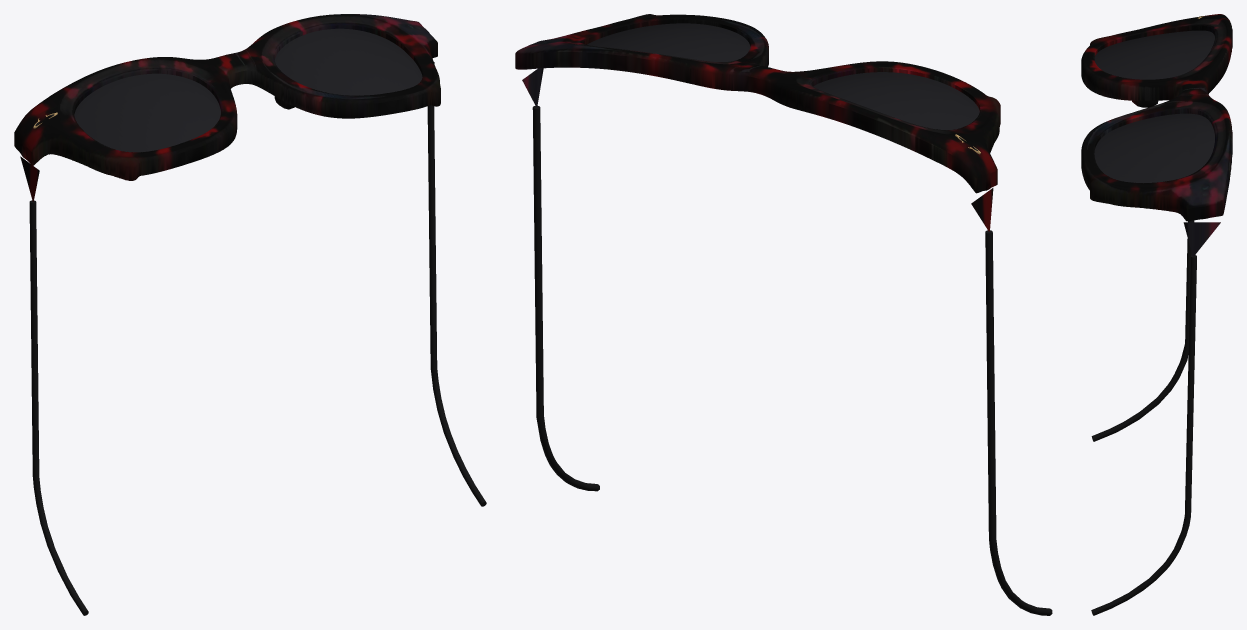
The picture shows the model from 3 angles, left to right: view 1: azimuth 30°, elevation 25°; view 2: azimuth 150°, elevation 25°; view 3: azimuth 270°, elevation 25°; orthographic projection. The views are drawn at different scales.
Parts seen in each view (by area): view 1: F02 front, F02 lens 0, F02 lens 1, F02 temple 0.001, F02 temple 1.001; view 2: F02 front, F02 lens 0, F02 lens 1, F02 temple 0.001, F02 temple 1.001; view 3: F02 front, F02 lens 1, F02 lens 0, F02 temple 1.001, F02 temple 0.001, F02 end 1.
Boxes of the visible parts, x1,y1,x2,y2 form: F02 front: (14, 14, 440, 180); F02 lens 0: (74, 73, 220, 152); F02 lens 1: (274, 28, 422, 95); F02 temple 0.001: (29, 200, 88, 615); F02 temple 1.001: (427, 105, 486, 506); F02 front: (515, 14, 1000, 193); F02 lens 0: (813, 72, 979, 129); F02 lens 1: (587, 23, 750, 61); F02 temple 0.001: (985, 230, 1052, 615); F02 temple 1.001: (532, 106, 599, 491); F02 front: (1081, 14, 1232, 221); F02 lens 1: (1094, 113, 1214, 183); F02 lens 0: (1094, 30, 1214, 79); F02 temple 1.001: (1091, 255, 1196, 615); F02 temple 0.001: (1091, 220, 1194, 441); F02 end 1: (1183, 222, 1220, 256).
Bounding box in the file's own units: 0.1426 × 0.1595 × 0.048.
5 materials, 1 textured.
